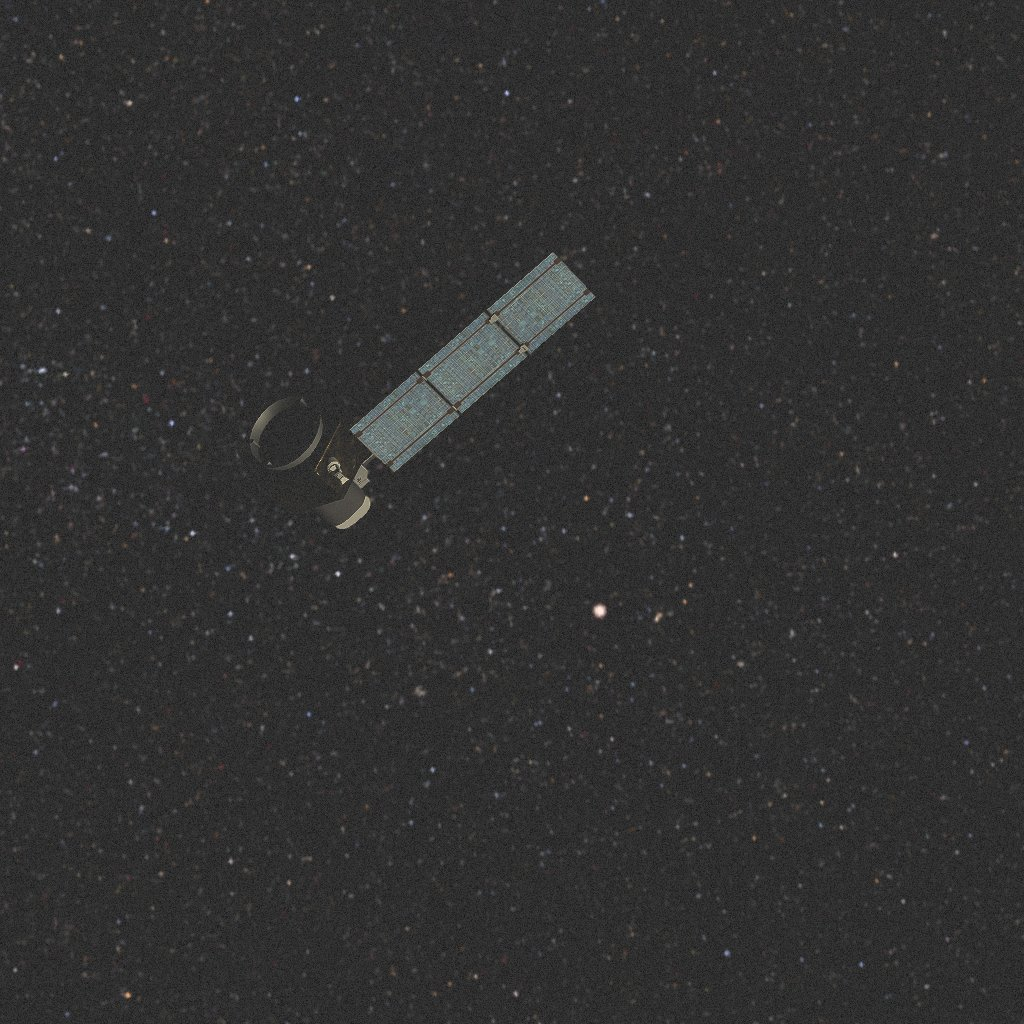earth_observation_sat_1: (244, 243, 598, 556)
